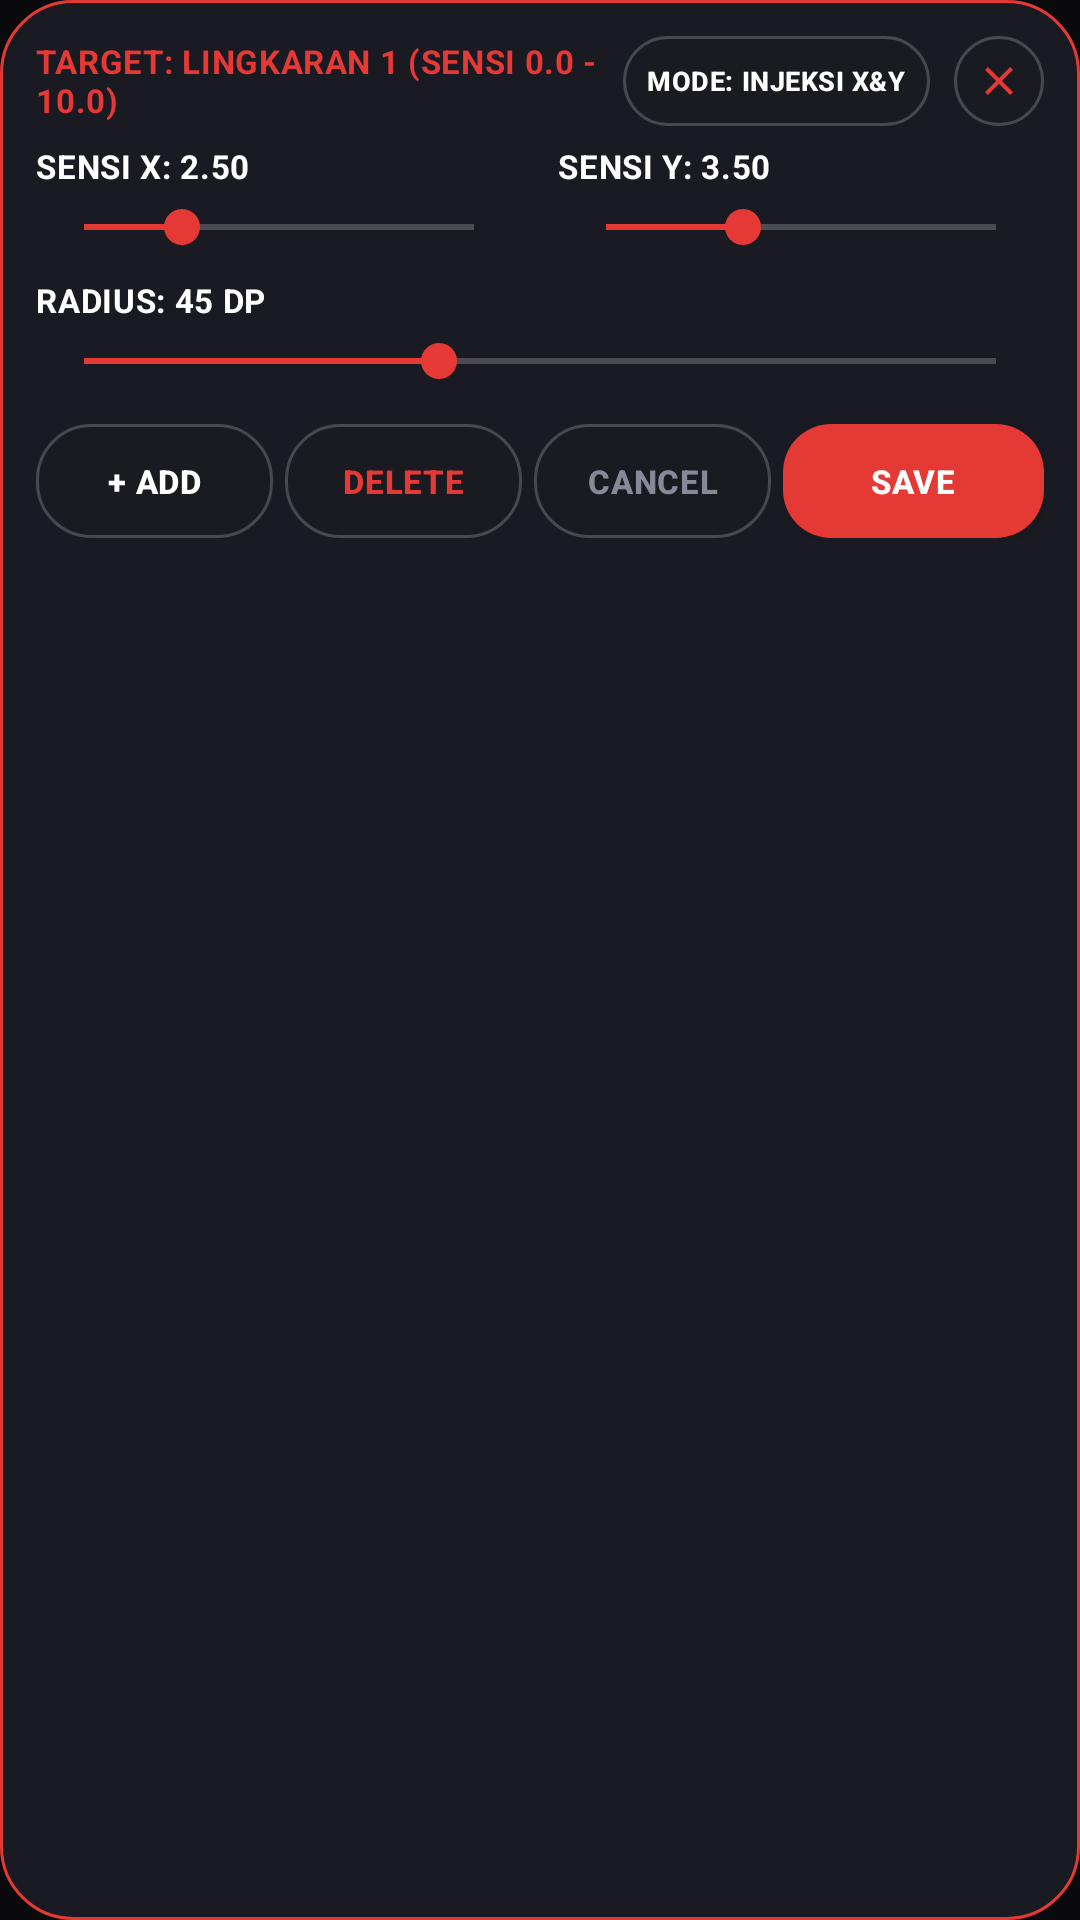

Icon click points for this 1080 x 1920 phone screenshot, format [x,y]:
CLOSE: [999,81]
